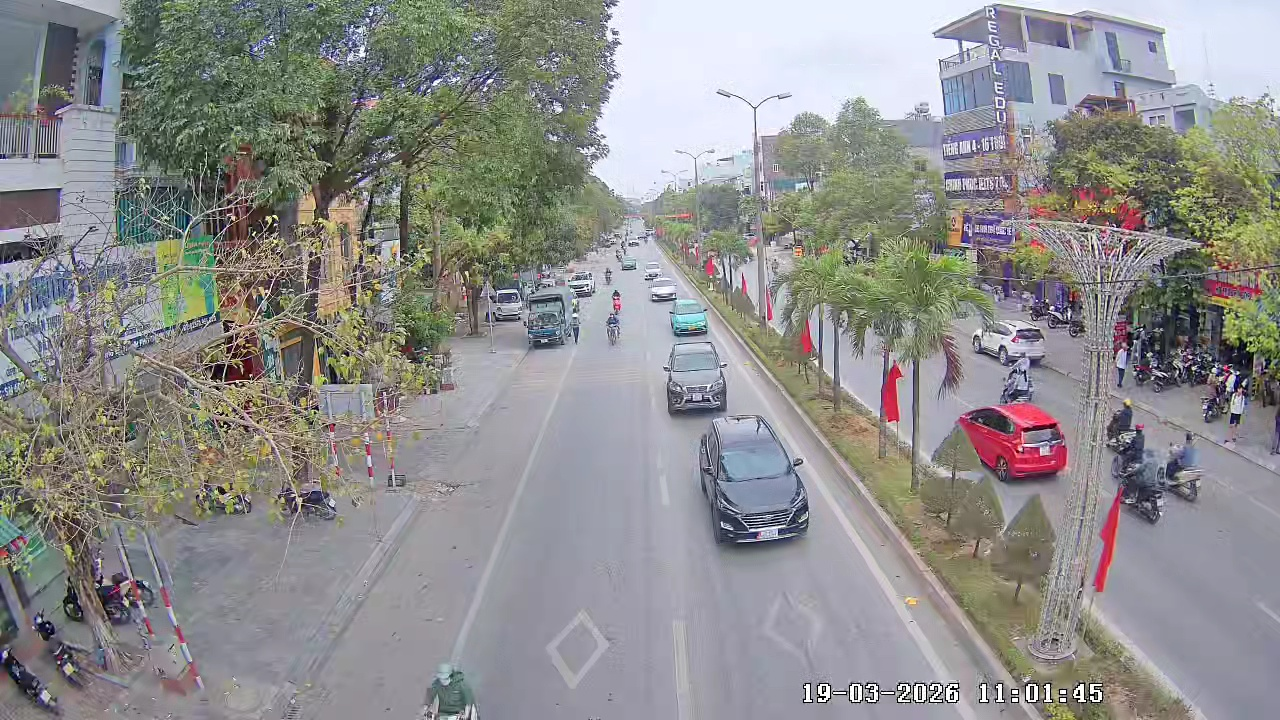car: (697, 413, 811, 546), (959, 401, 1069, 482), (662, 339, 729, 416), (668, 297, 710, 337), (645, 279, 678, 303), (568, 269, 594, 299)
motorbike: (1119, 448, 1165, 524), (1157, 432, 1205, 503), (291, 486, 343, 524), (1105, 399, 1138, 454), (1000, 363, 1036, 405), (605, 310, 622, 346), (610, 288, 622, 315)
truck: (523, 298, 567, 349)
